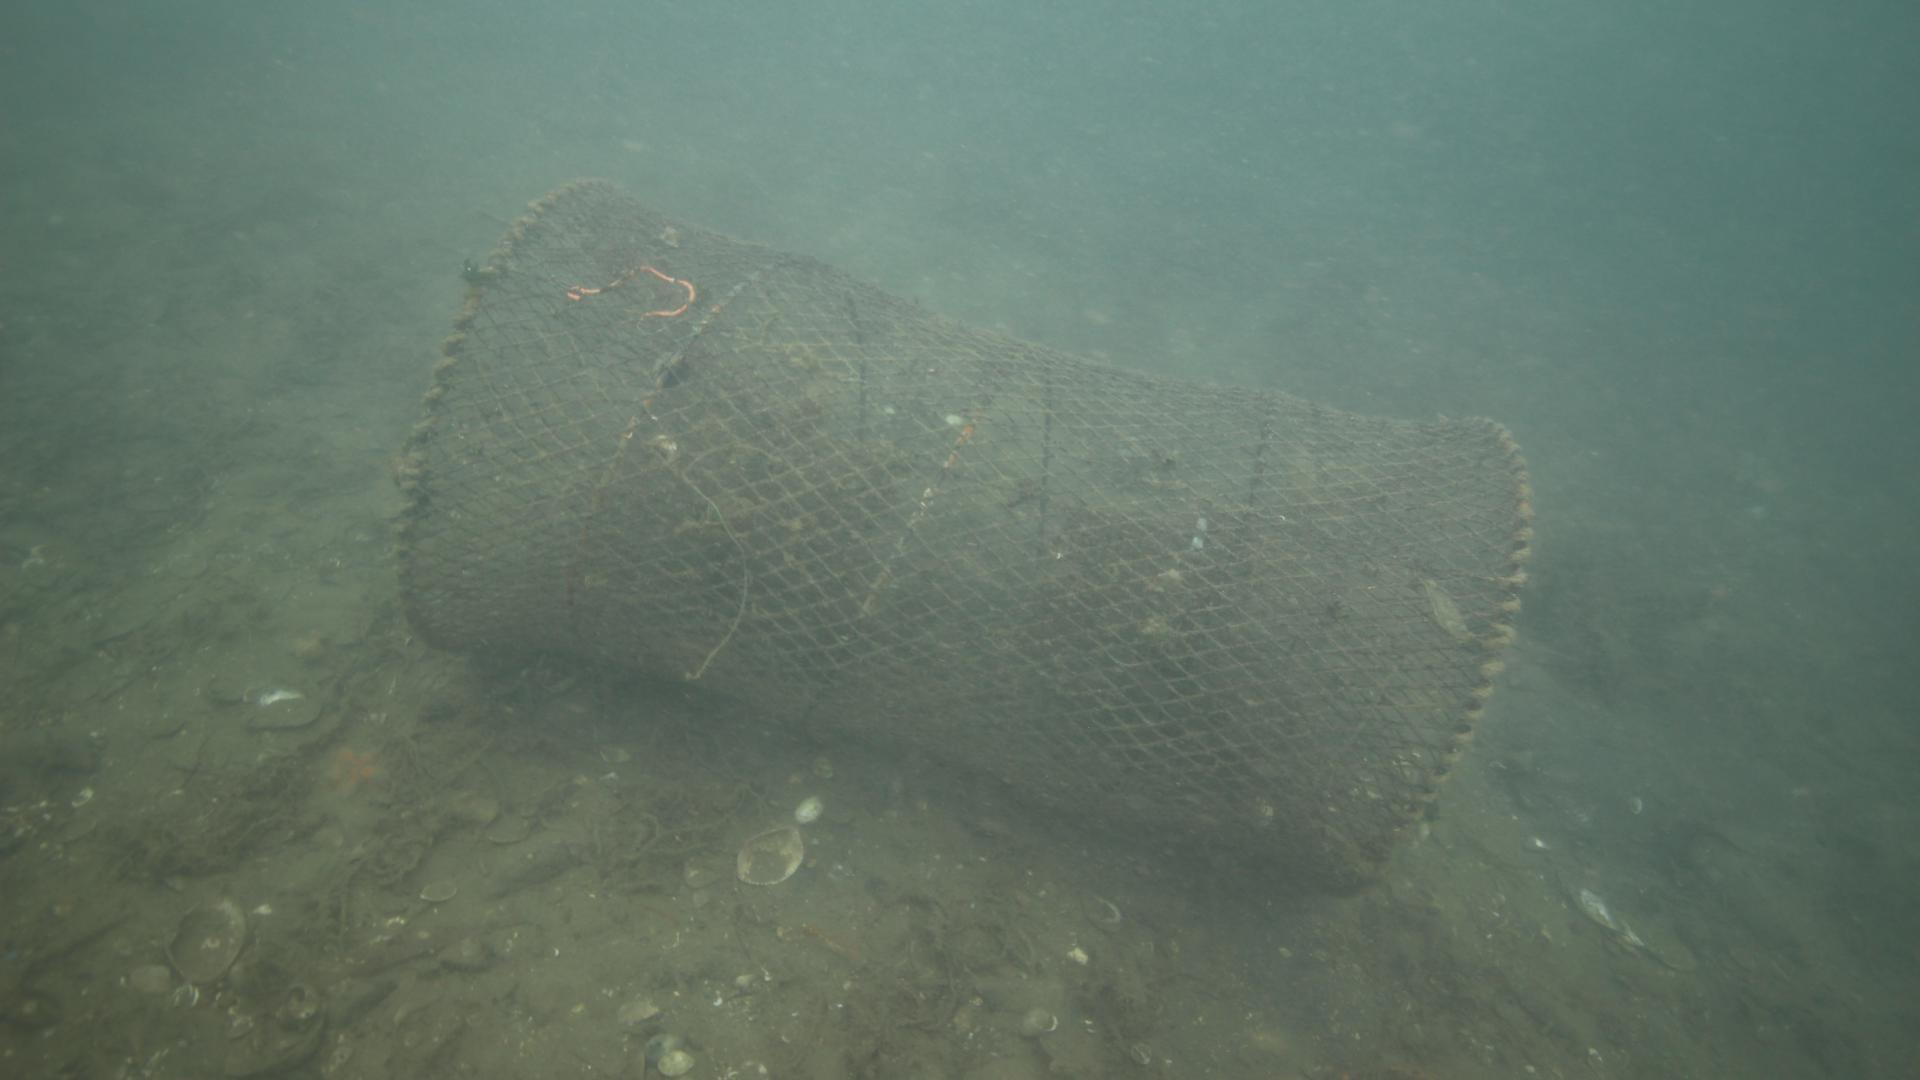spring fish trap: (392, 177, 1540, 903)
